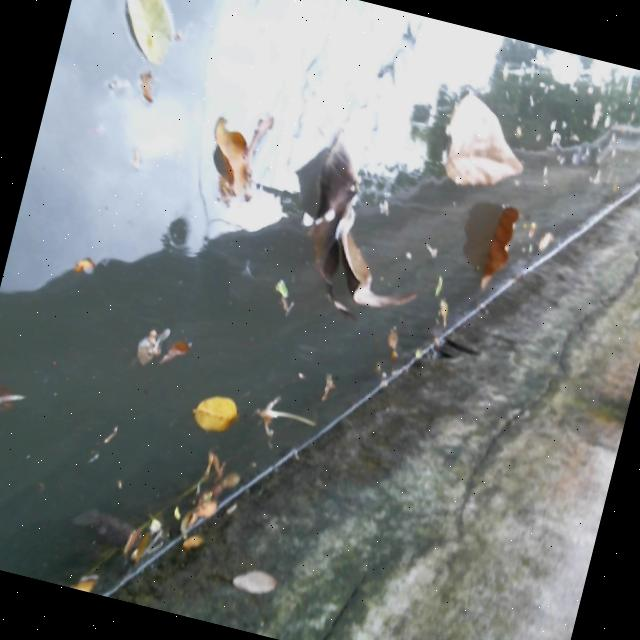Big-leaf: (266, 116, 445, 339), (175, 81, 294, 215), (424, 85, 541, 203), (465, 192, 532, 302)
Small-leaf: (90, 0, 196, 68), (168, 374, 250, 438), (114, 316, 173, 382), (408, 261, 458, 319), (362, 326, 414, 380), (143, 328, 197, 378), (117, 65, 171, 109), (423, 296, 463, 338), (311, 358, 344, 405), (67, 566, 115, 597)
